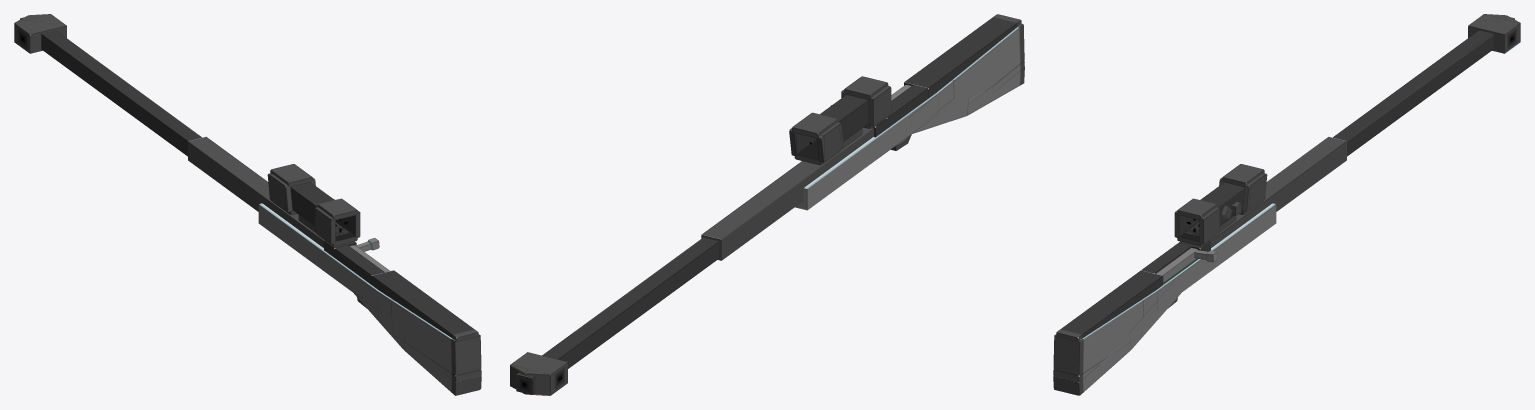
Rendered from sniper_model.fbx.
The picture shows the model from 3 angles, left to right: view 1: azimuth 30°, elevation 25°; view 2: azimuth 150°, elevation 25°; view 3: azimuth 330°, elevation 25°; orthographic projection. The views are drawn at different scales.
Visible parts, largest first — view 1: cube_17, cube, cube_3, cube_1, cube_6, cube_16, cube_33, cube_5, cube_7, cube_2, cube_26, cube_21 (+3 smaller); view 2: cube_17, cube, cube_1, cube_6, cube_3, cube_33, cube_16, cube_7, cube_5, cube_2, cube_26, cube_4 (+4 smaller); view 3: cube_17, cube, cube_3, cube_1, cube_6, cube_16, cube_5, cube_33, cube_2, cube_26, cube_22, cube_7 (+3 smaller).
Boxes of the visible parts, x1,y1,x2,y2 form: cube_17: (20,17,201,156); cube: (188,136,324,247); cube_3: (391,300,481,375); cube_1: (258,203,378,310); cube_6: (371,270,478,342); cube_16: (14,14,66,53); cube_33: (288,182,349,235); cube_5: (403,343,481,395); cube_7: (334,245,384,284); cube_2: (353,275,405,349); cube_26: (270,164,312,186); cube_21: (315,207,335,244); cube_17: (516,237,719,394); cube: (701,127,873,260); cube_1: (795,93,938,210); cube_6: (904,14,1021,98); cube_3: (952,24,1024,108); cube_33: (799,95,873,151); cube_16: (510,352,567,395); cube_7: (886,85,927,128); cube_5: (967,67,1024,115); cube_2: (912,94,969,133); cube_26: (792,112,838,138); cube_4: (910,80,953,131); cube_17: (1333,17,1514,156); cube: (1210,136,1346,247); cube_3: (1053,300,1143,375); cube_1: (1154,203,1276,310); cube_6: (1056,270,1163,342); cube_16: (1468,14,1520,53); cube_5: (1053,338,1131,395); cube_33: (1184,182,1244,235); cube_2: (1129,275,1182,349); cube_26: (1222,164,1264,186); cube_22: (1199,207,1219,244); cube_7: (1142,243,1191,273).
Size of the model in its own units: 16.2 by 29.28 by 260.
Materials: 1 (1 with a texture image).
